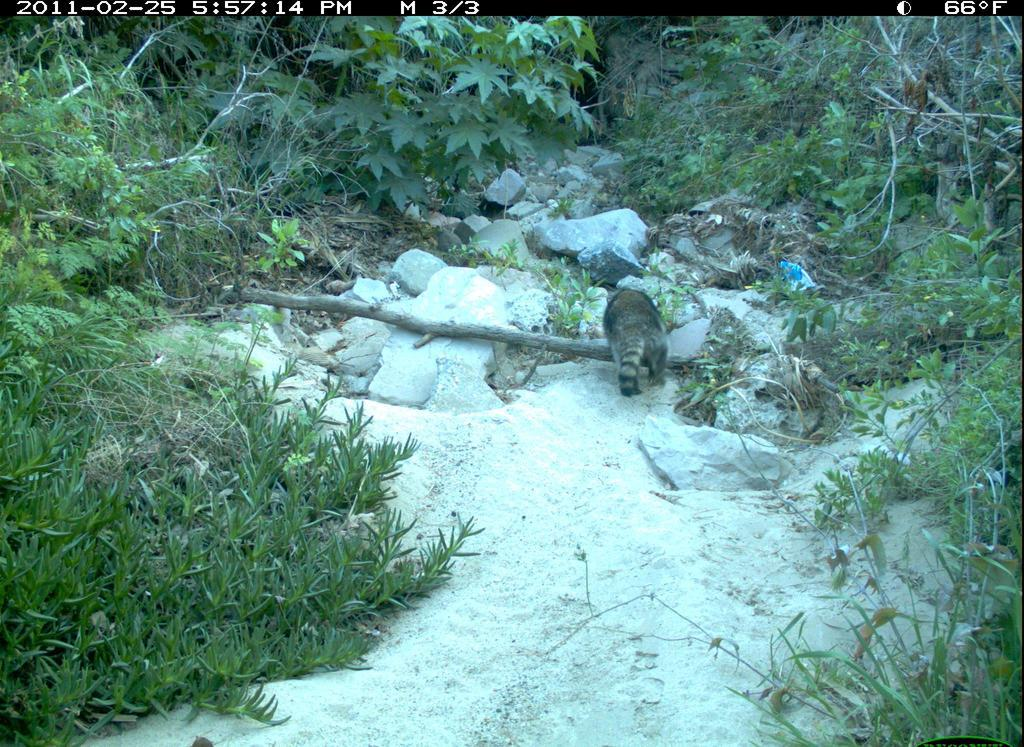raccoon: (602, 281, 675, 409)
